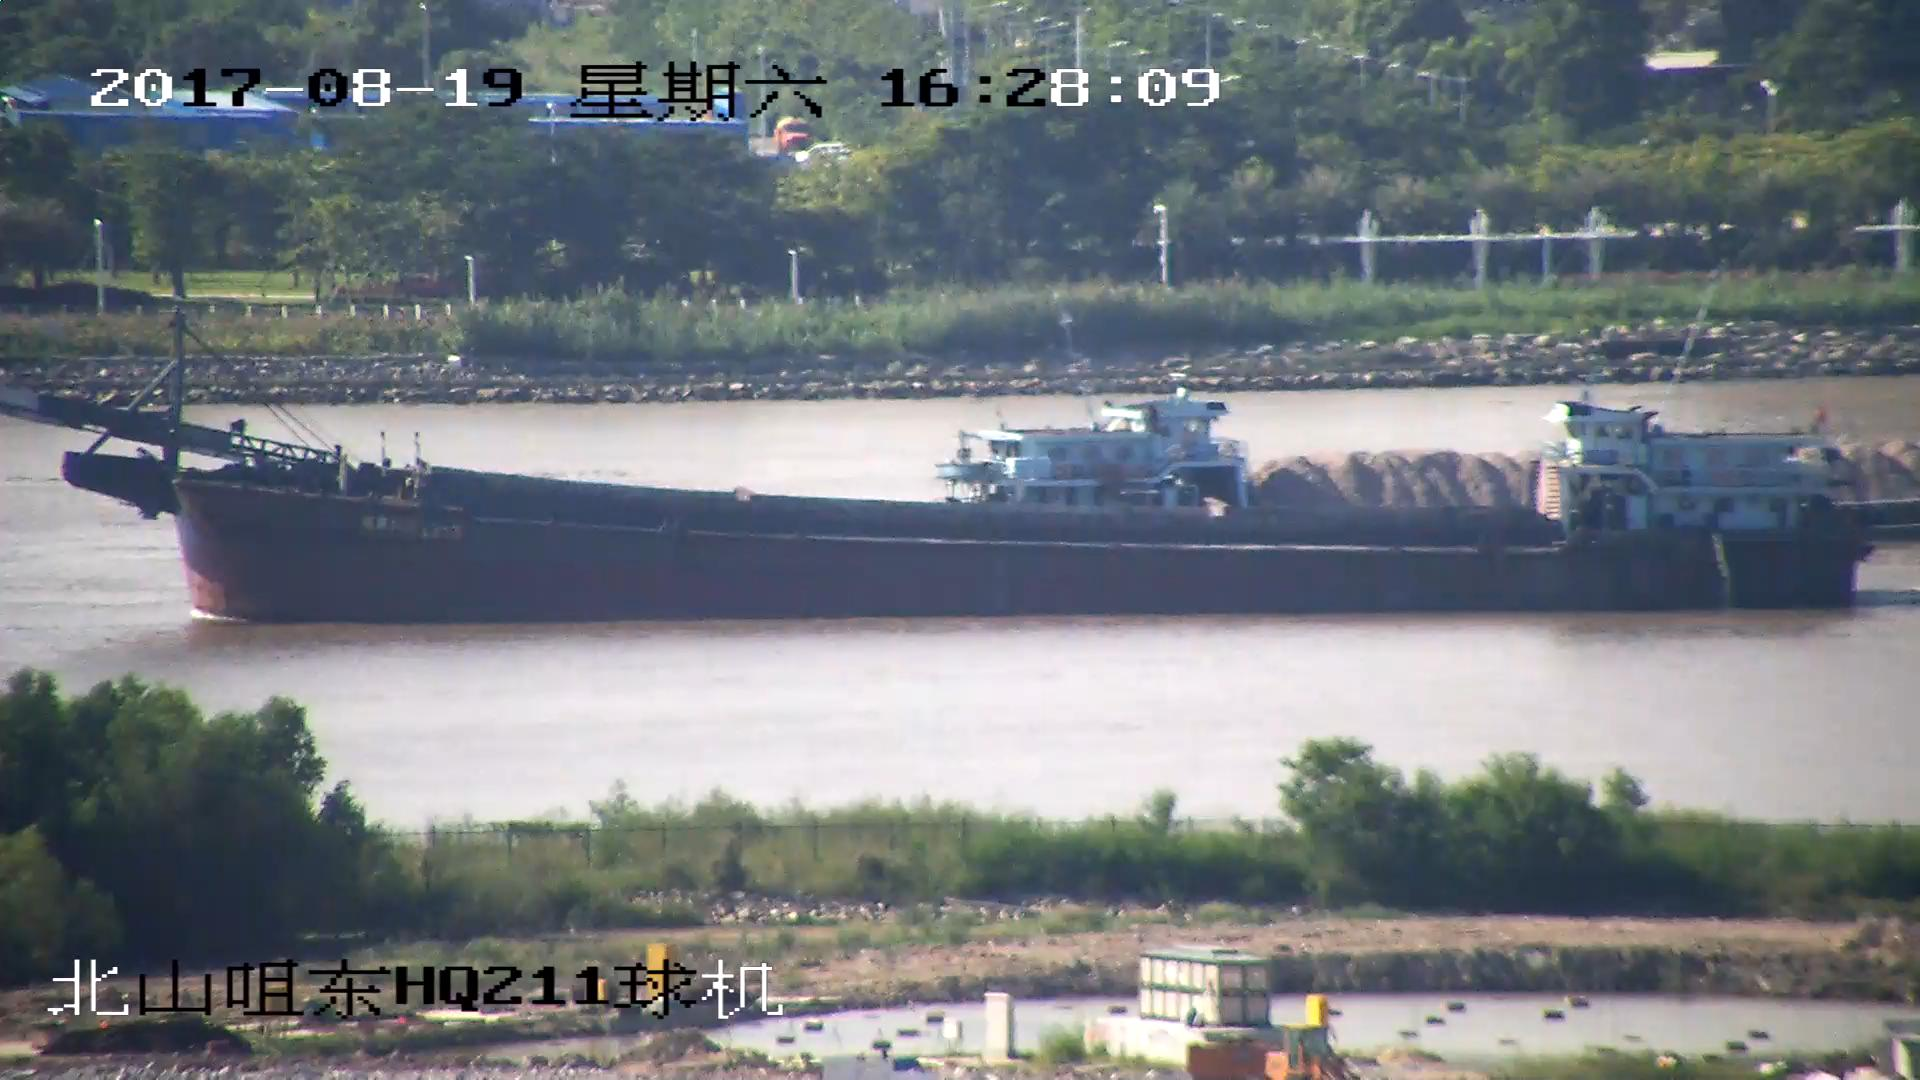bulk cargo carrier: (1, 322, 1866, 620)
ore carrier: (929, 413, 1566, 530)
